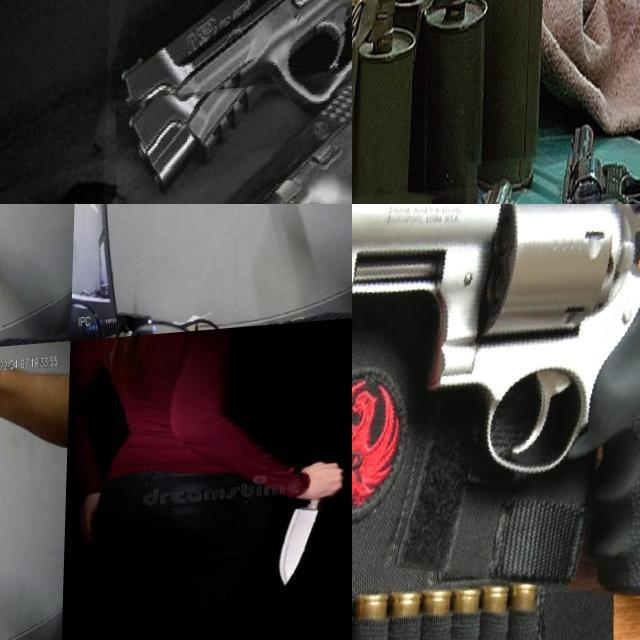-: (268, 506, 340, 596), (0, 353, 22, 566), (245, 204, 283, 287), (0, 204, 30, 281)
gun-knife-thesis - v11 Yolov5 augmented: (352, 204, 640, 619), (105, 0, 352, 204), (113, 66, 352, 204), (557, 99, 640, 204), (464, 157, 625, 204)
